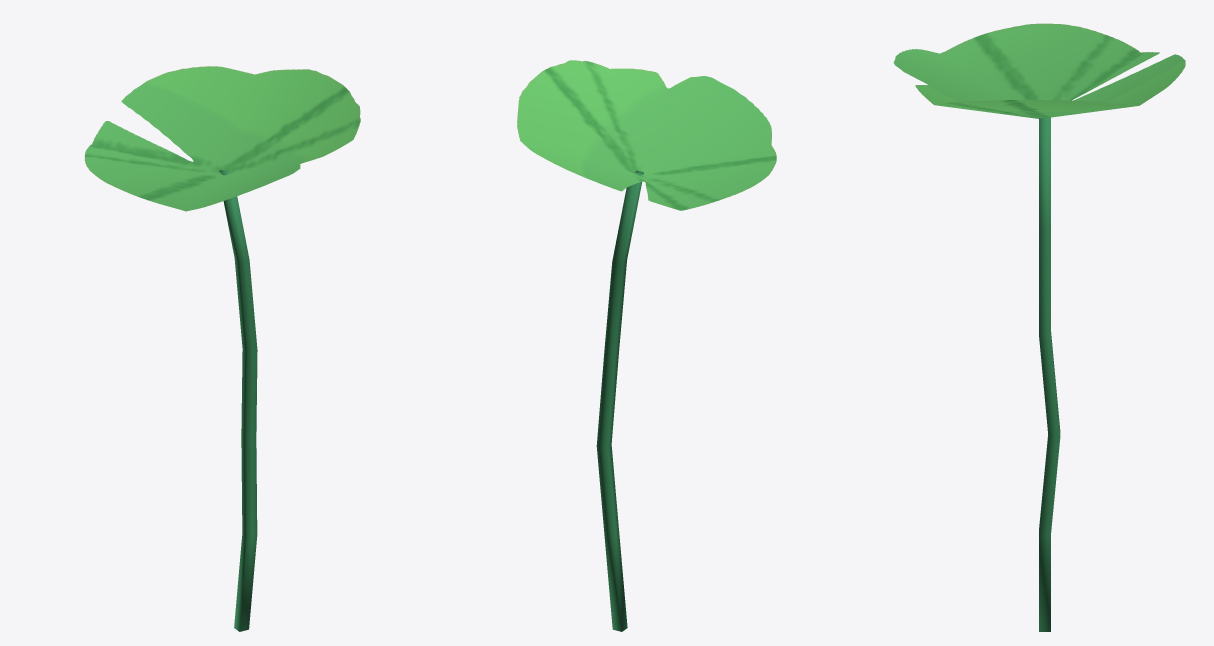
Rendered from SM_NenuphareSolo3.fbx.
The picture shows the model from 3 angles, left to right: view 1: azimuth 30°, elevation 25°; view 2: azimuth 150°, elevation 25°; view 3: azimuth 270°, elevation 25°; orthographic projection. The views are drawn at different scales.
Parts seen in each view (by area): view 1: SM_NenuphareSolo3; view 2: SM_NenuphareSolo3; view 3: SM_NenuphareSolo3.
Boxes of the visible parts, box(x1,y1,x2,y2) form: SM_NenuphareSolo3: box(84, 66, 360, 631); SM_NenuphareSolo3: box(517, 60, 776, 631); SM_NenuphareSolo3: box(893, 23, 1185, 631).
Size of the model in its own units: 53.26 by 106 by 52.57.
